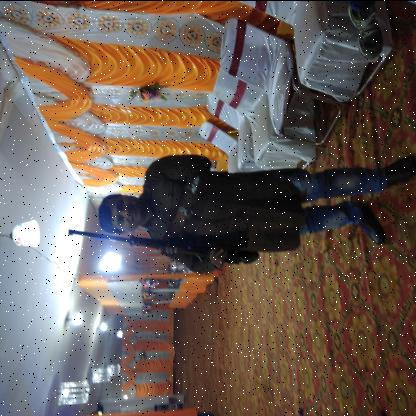rifle: (67, 226, 261, 266)
